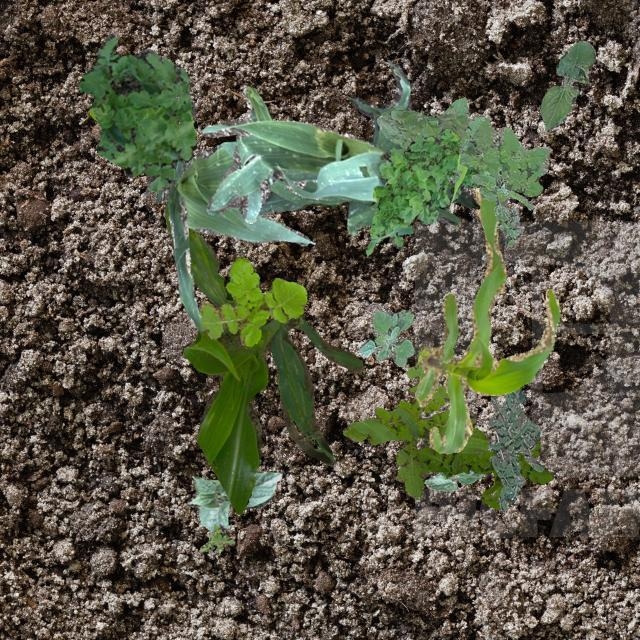crop: (164, 200, 362, 512), (414, 185, 558, 452), (201, 86, 478, 222), (154, 98, 314, 330), (258, 59, 410, 218), (186, 470, 280, 532), (540, 40, 594, 132), (346, 200, 458, 234), (422, 468, 482, 489)
weed: (342, 346, 488, 498), (76, 32, 196, 192), (376, 96, 550, 200), (364, 128, 488, 255), (197, 256, 306, 346), (417, 438, 552, 508), (487, 386, 542, 510), (471, 170, 532, 246), (358, 308, 413, 366), (198, 524, 234, 552), (446, 172, 458, 184)
